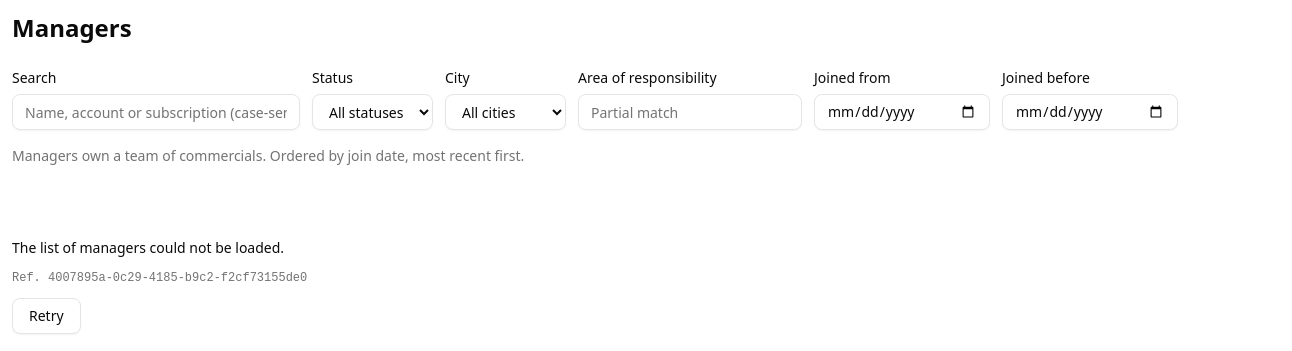
Scenario: error handling › recovers on manual retry
Check: the message is shown, box [12, 238, 307, 334]
What coordinates should you click on to do the following:
click the button "Retry"
I would click on:
 (46, 316)
Its box is [12, 298, 81, 334].
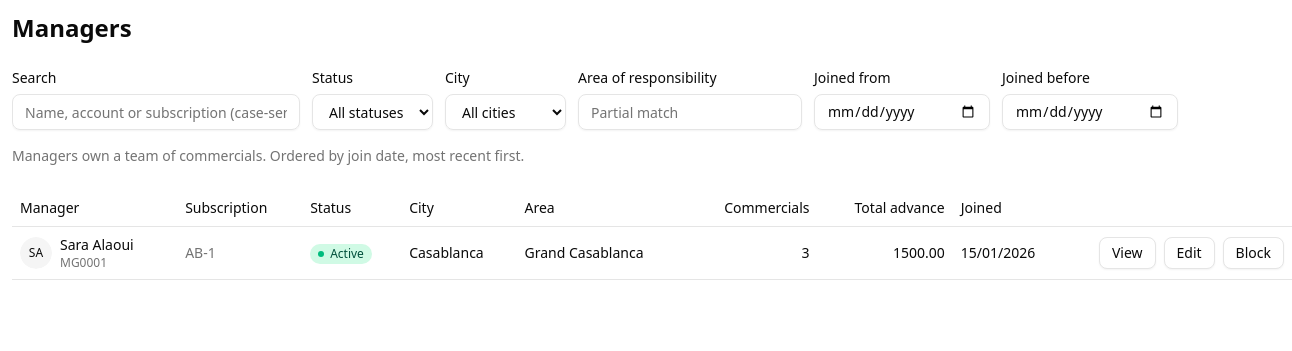
Check: the text "Sara Alaoui" is shown, box [60, 235, 134, 255]
